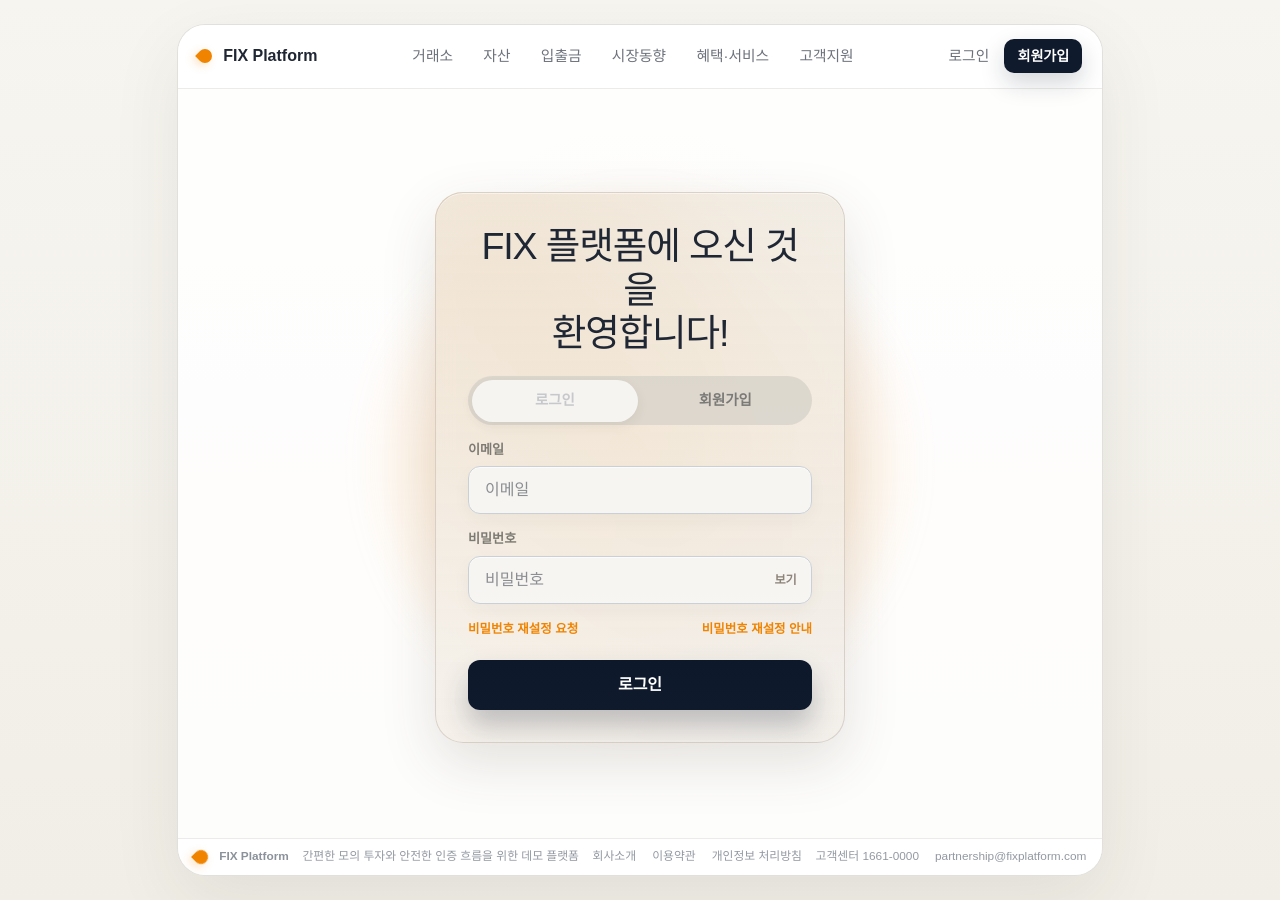
Test: App auth flow › shows email-based password recovery guidance from the login form
This screenshot has width=1280, height=900.
Type "demo@fix.com" into the field labelled "이메일".
click(640, 490); type("demo@fix.com")  # box 468,466 -> 812,514
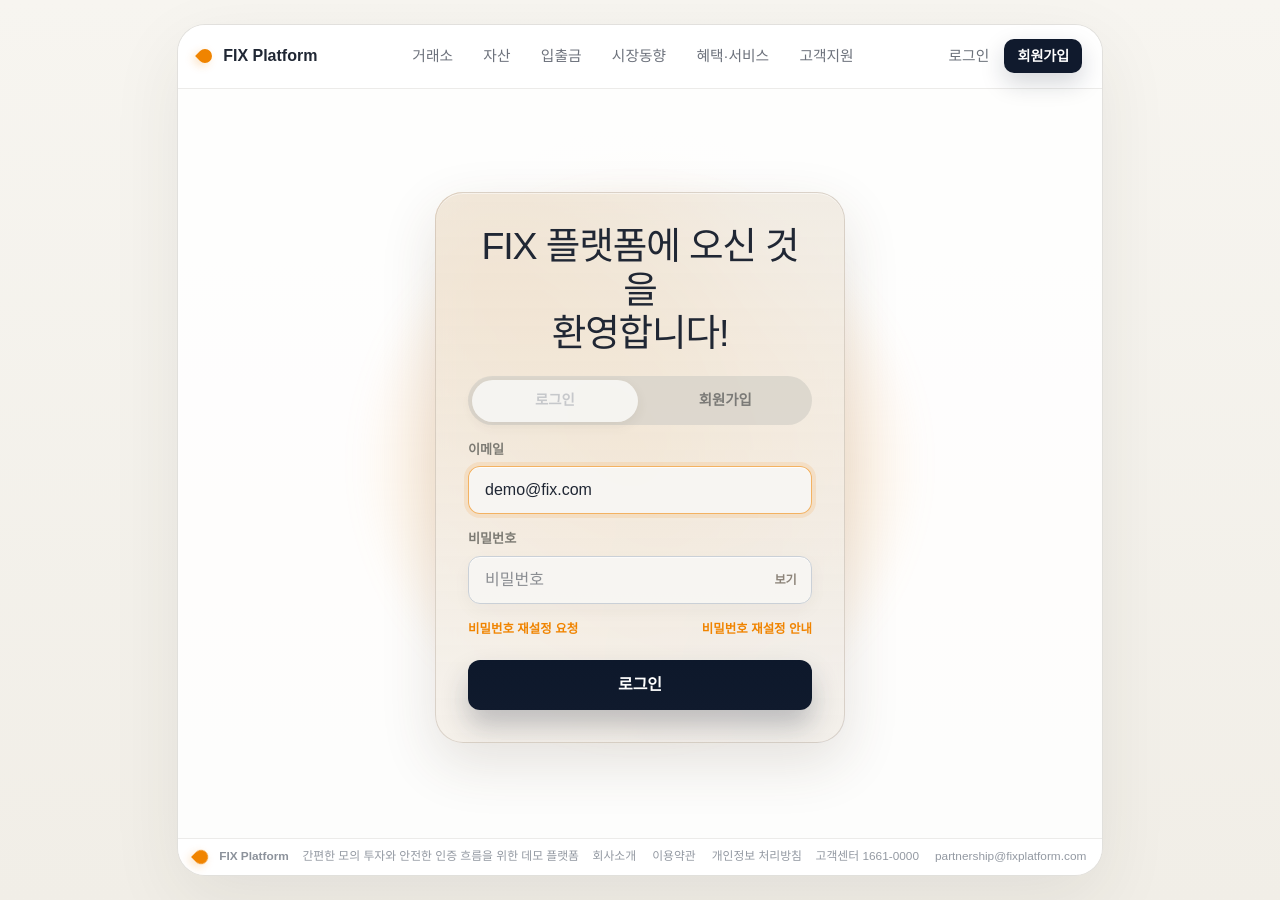
Click the button with test id "login-password-recovery-toggle".
click(757, 629)  # box 702,620 -> 812,639
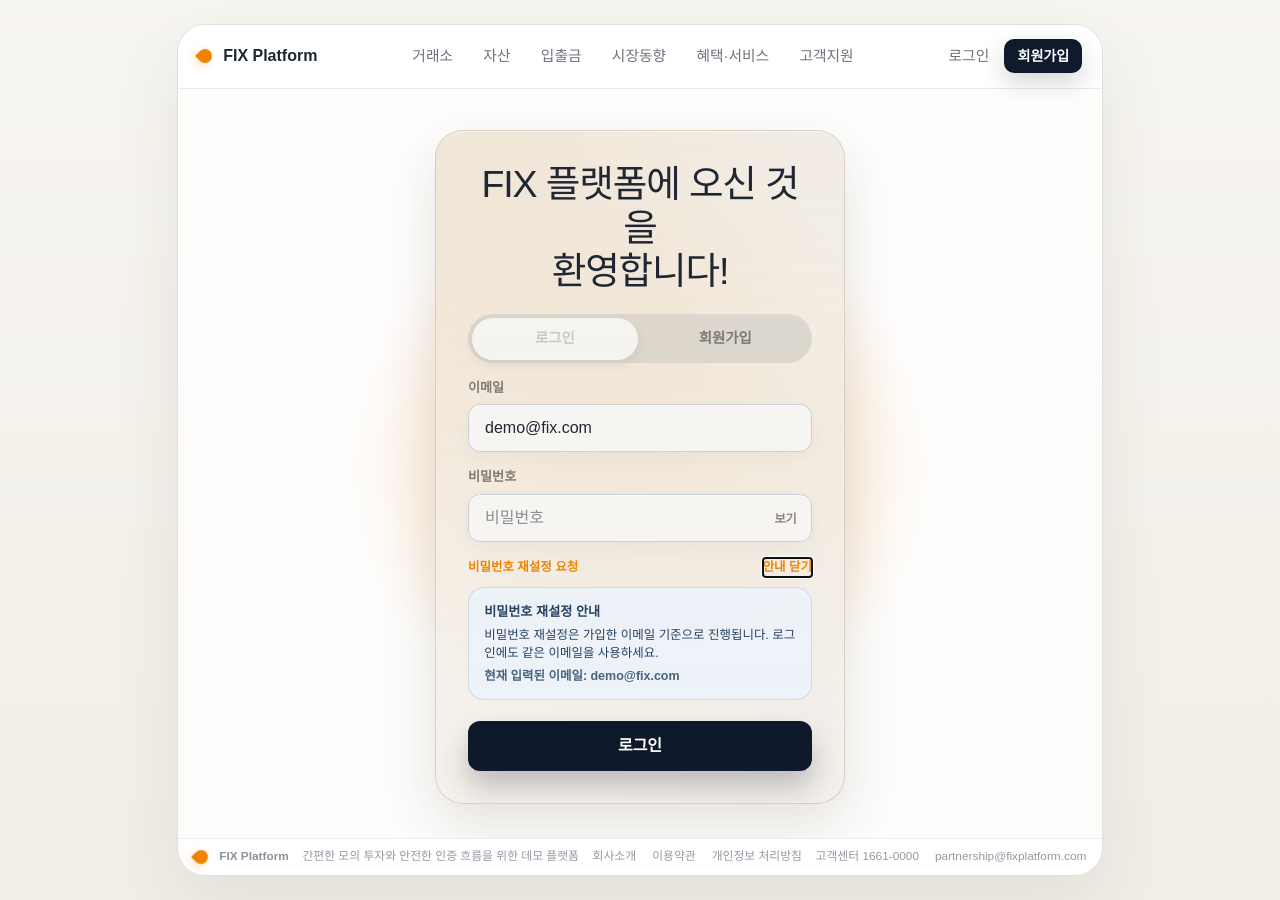
Expected: the message with test id "login-password-recovery-help" shows "비밀번호 재설정은 가입한 이메일 기준으로 진행됩니다.", 484,628 -> 795,660
Expected: the message with test id "login-password-recovery-help" shows "현재 입력된 이메일: demo@fix.com", 484,669 -> 680,683
Click the button with test id "login-password-recovery-toggle".
click(787, 568)  # box 763,558 -> 812,577
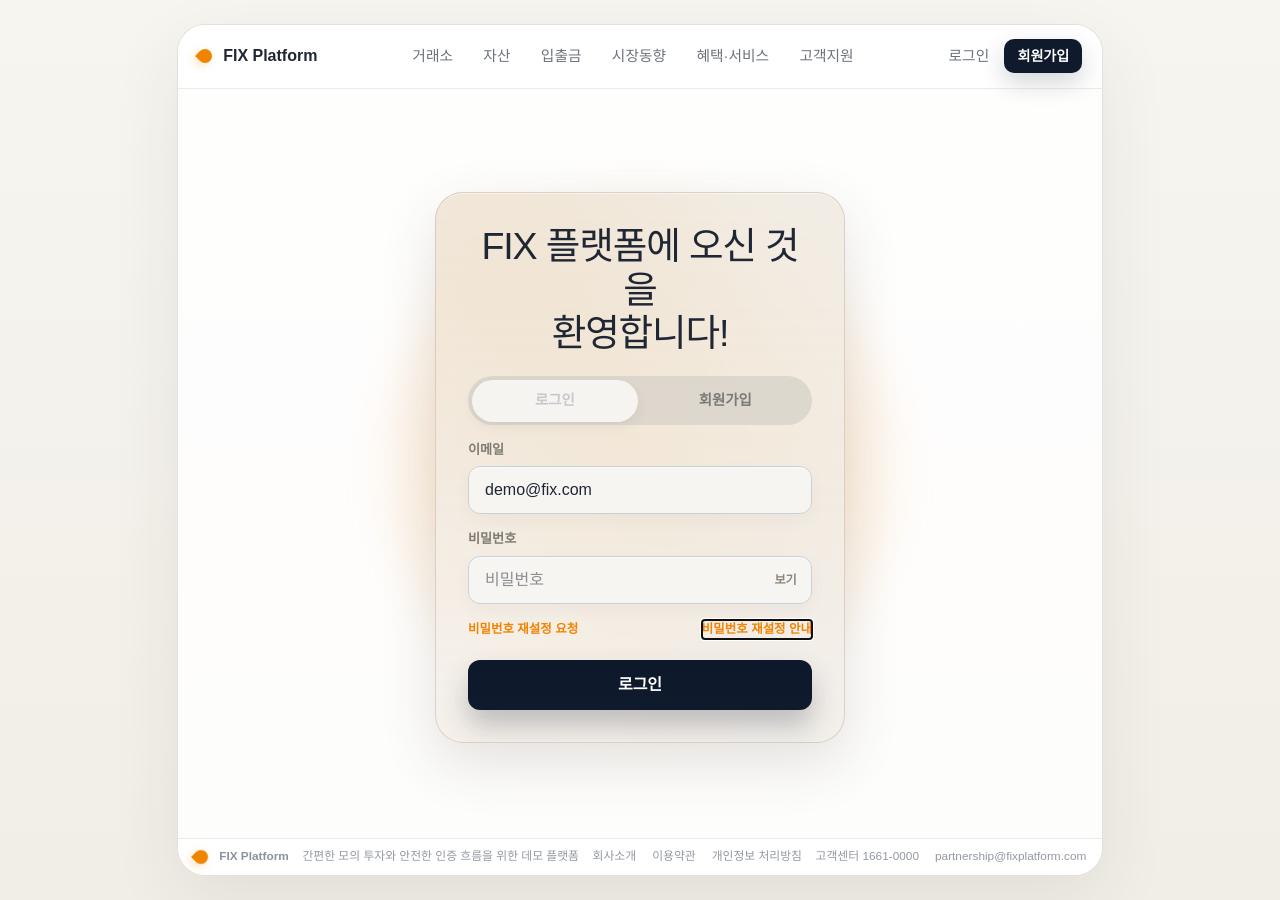
Expected: the message with test id "login-password-recovery-help" is gone
